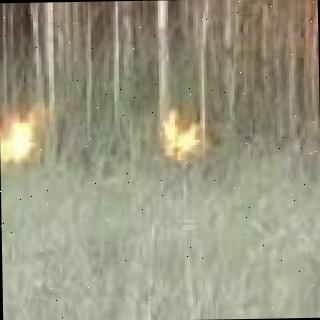fire: (160, 114, 206, 161), (0, 119, 36, 165)
